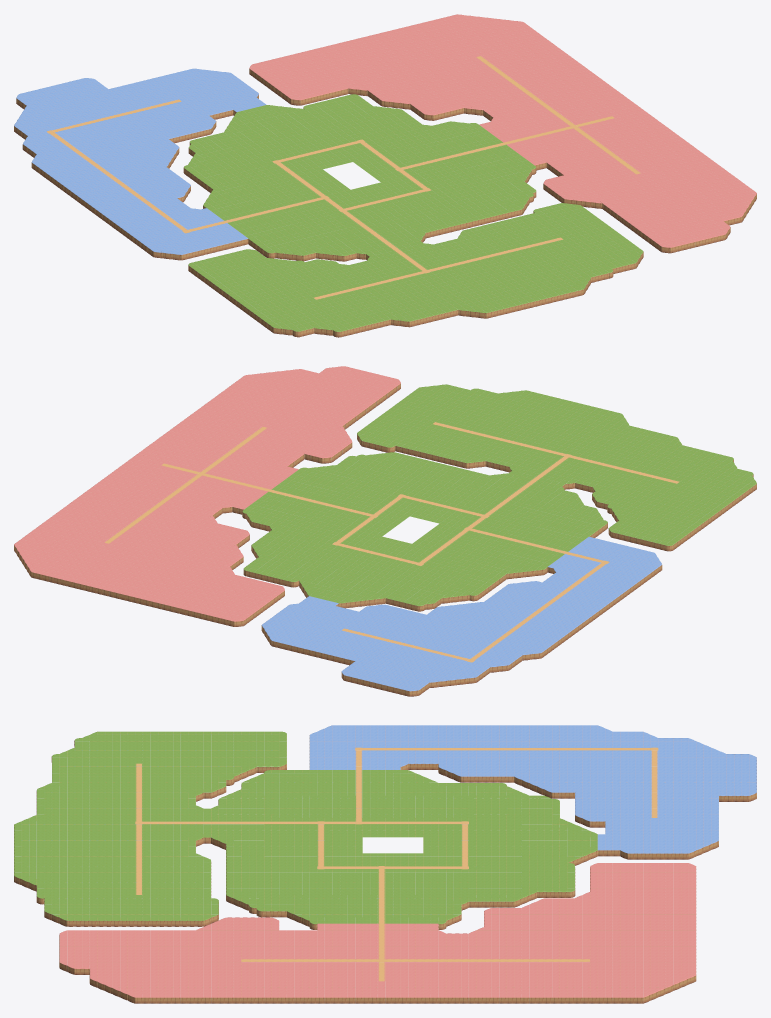
The model's file is Mesh_mainland01.fbx.
The picture shows the model from 3 angles, top to bottom: view 1: azimuth 30°, elevation 25°; view 2: azimuth 150°, elevation 25°; view 3: azimuth 270°, elevation 25°; orthographic projection. The views are drawn at different scales.
Visible parts, largest first — view 1: Mehs_mainland01; view 2: Mehs_mainland01; view 3: Mehs_mainland01.
Part boxes in pixels (x1,y1,x2,y2): Mehs_mainland01: [14, 14, 756, 337]; Mehs_mainland01: [14, 366, 756, 696]; Mehs_mainland01: [14, 725, 756, 1003].
Size of the model in its own units: 34014 by 368 by 39212.
